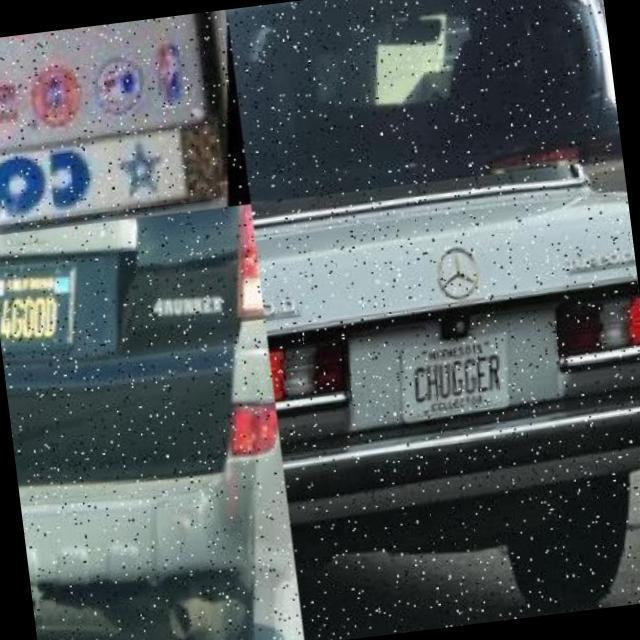License Plate: (0, 10, 224, 106), (403, 334, 514, 425), (0, 242, 86, 358)
